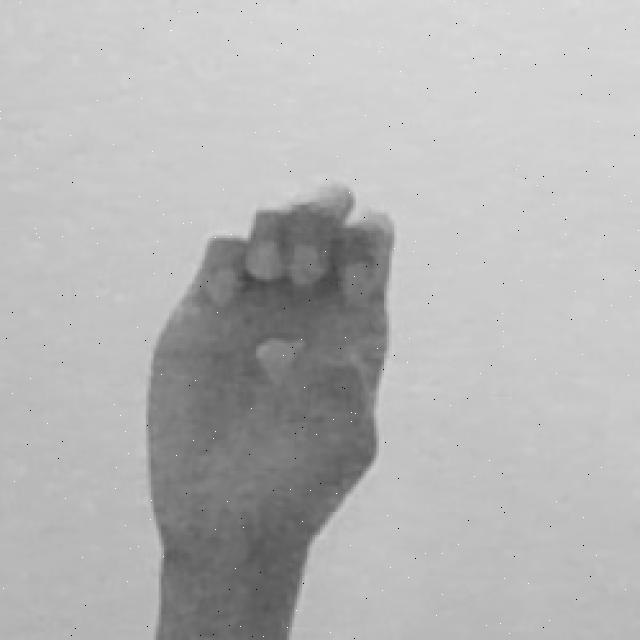E: (143, 176, 399, 640)
